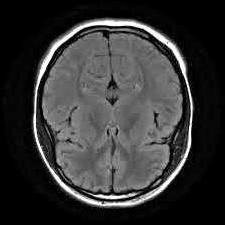Normal_Brain: (15, 1, 218, 220)
